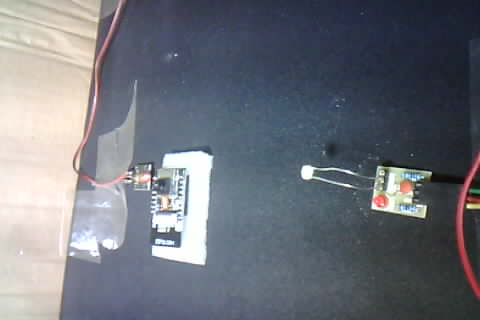esp32: (147, 150, 214, 255)
